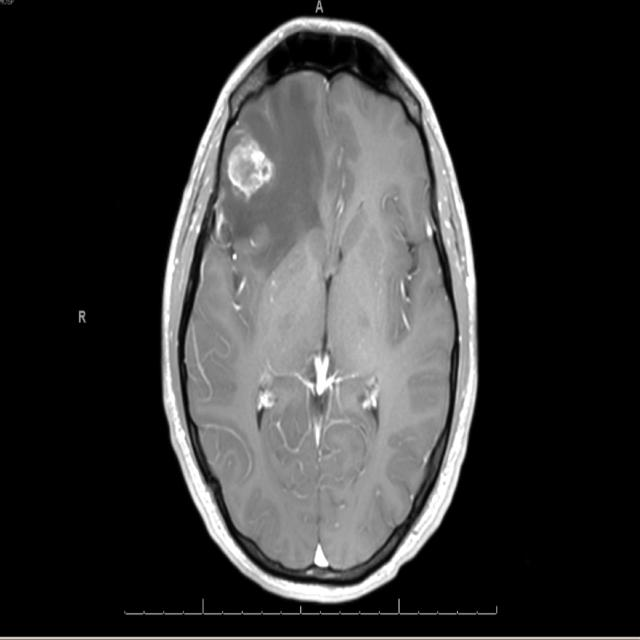Tumor: (229, 138, 277, 197)
